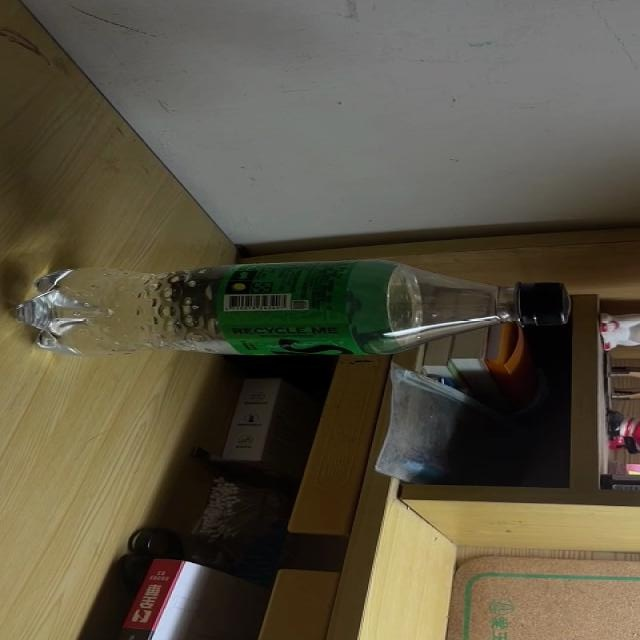Sprite: (16, 262, 571, 359)
